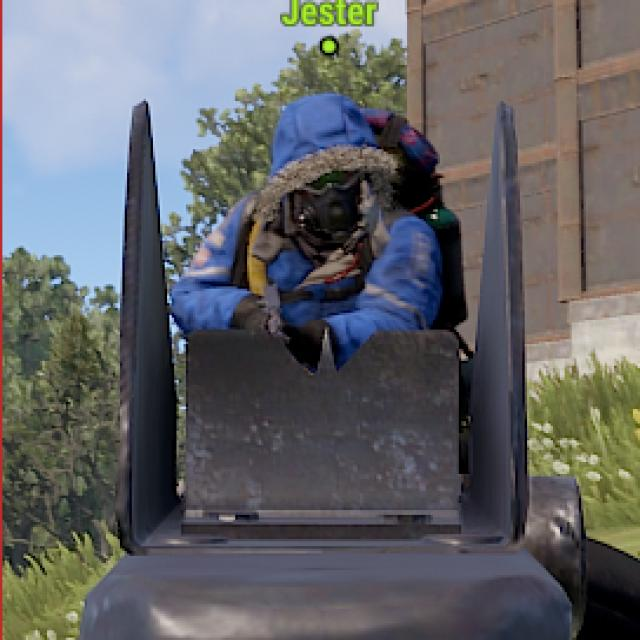Player: (171, 93, 466, 324)
